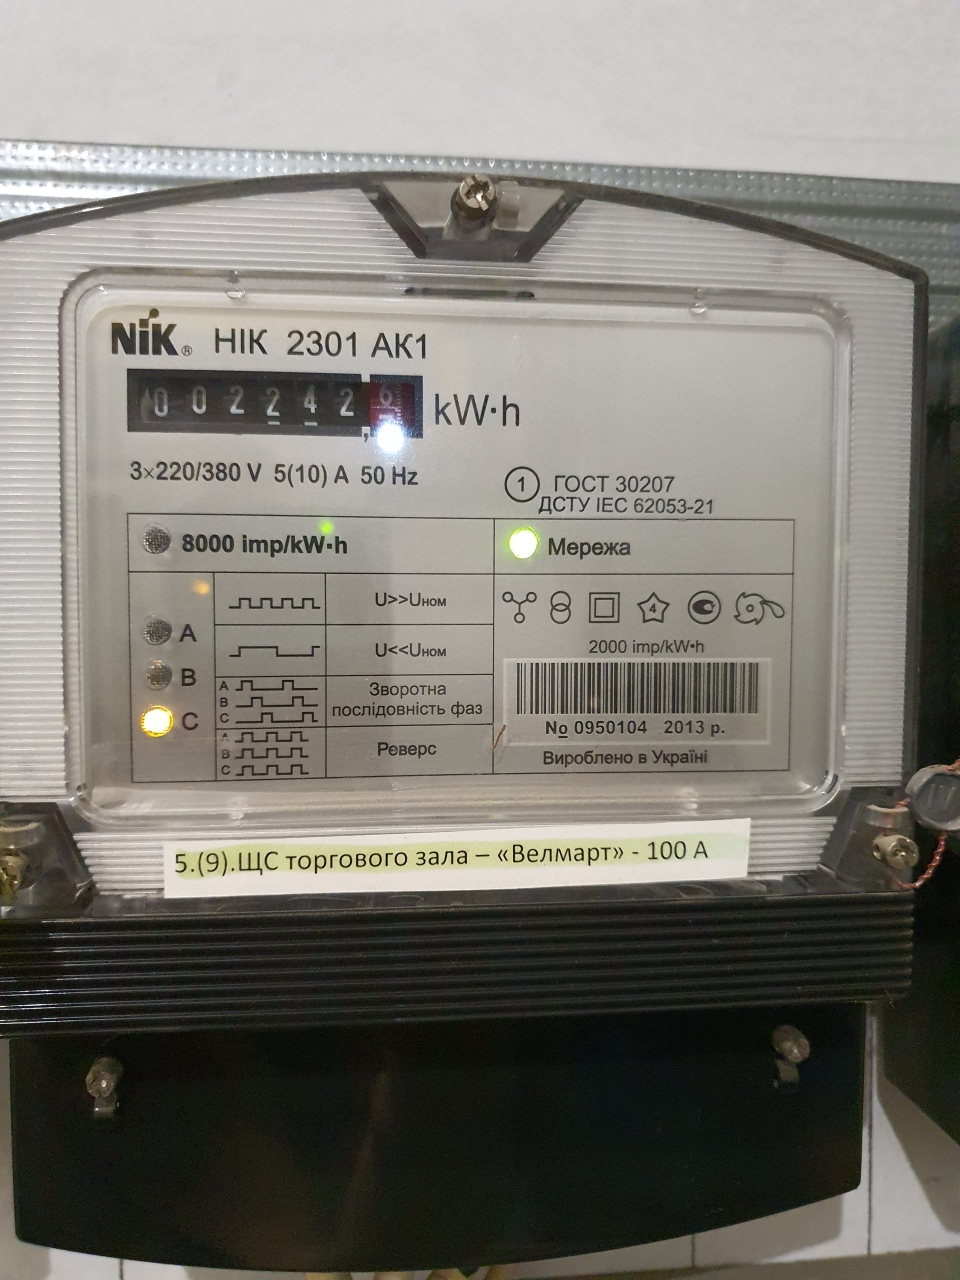0: (151, 385, 171, 419), (189, 383, 208, 416)
2: (264, 384, 282, 418), (227, 383, 246, 415), (338, 386, 355, 418)
4: (303, 382, 318, 415)
6: (378, 380, 394, 407)
screen: (116, 358, 434, 447)
